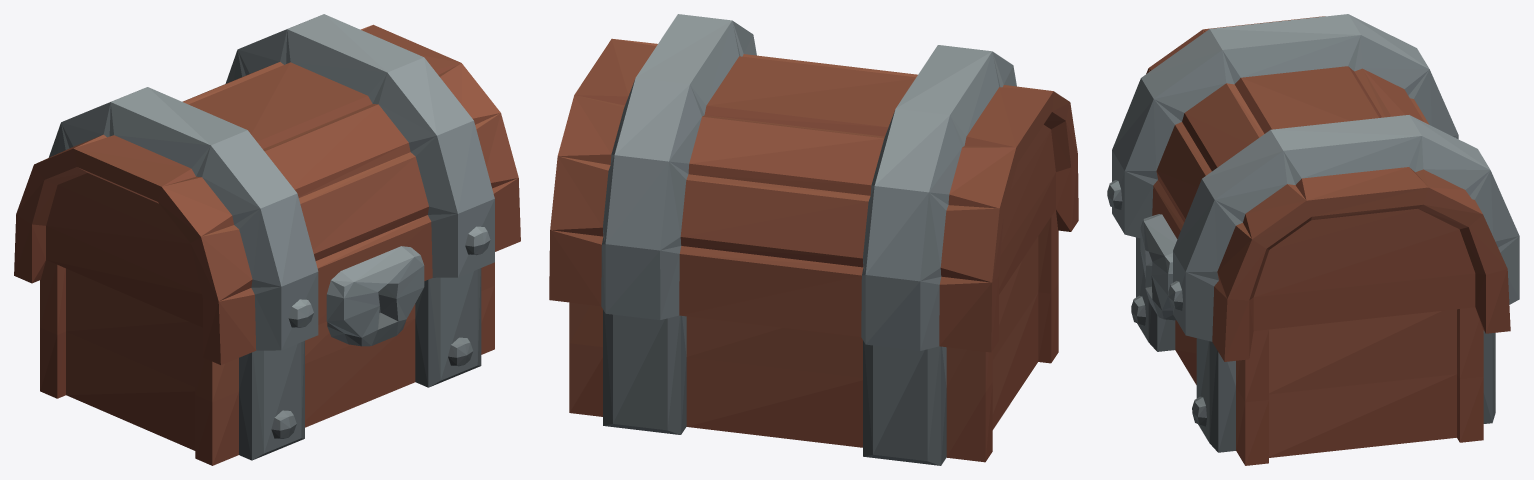
Rendered from chest__a.glb.
3 renders of one model, left to right at view 1: azimuth 30°, elevation 25°; view 2: azimuth 150°, elevation 25°; view 3: azimuth 270°, elevation 25°, orthographic. The views are drawn at different scales.
Visible parts, largest first — view 1: lid, chest; view 2: lid, chest; view 3: lid, chest.
Part boxes in pixels (x1,y1,x2,y2): lid: (14,14,520,364); chest: (40,260,494,465); lid: (549,14,1078,352); chest: (569,210,1058,465); lid: (1107,14,1519,361); chest: (1131,237,1495,465).
Bounding box in the file's own units: 0.8837 × 0.5909 × 0.7612.
